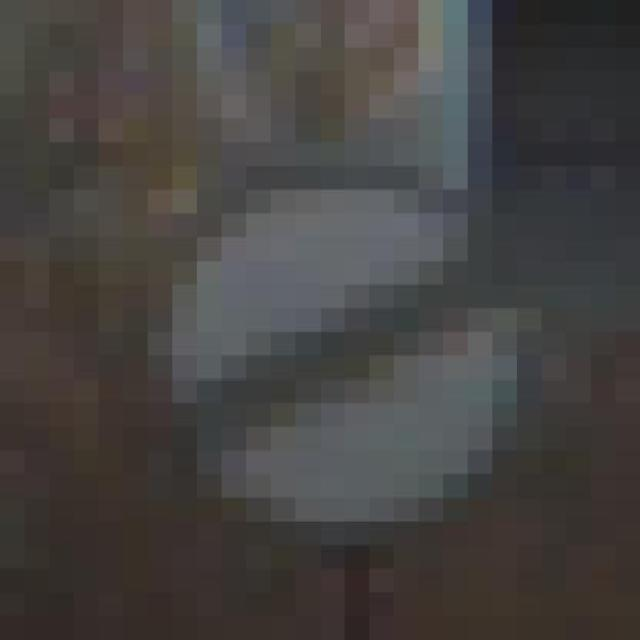End of all speed and passing limits: (123, 142, 542, 546)
